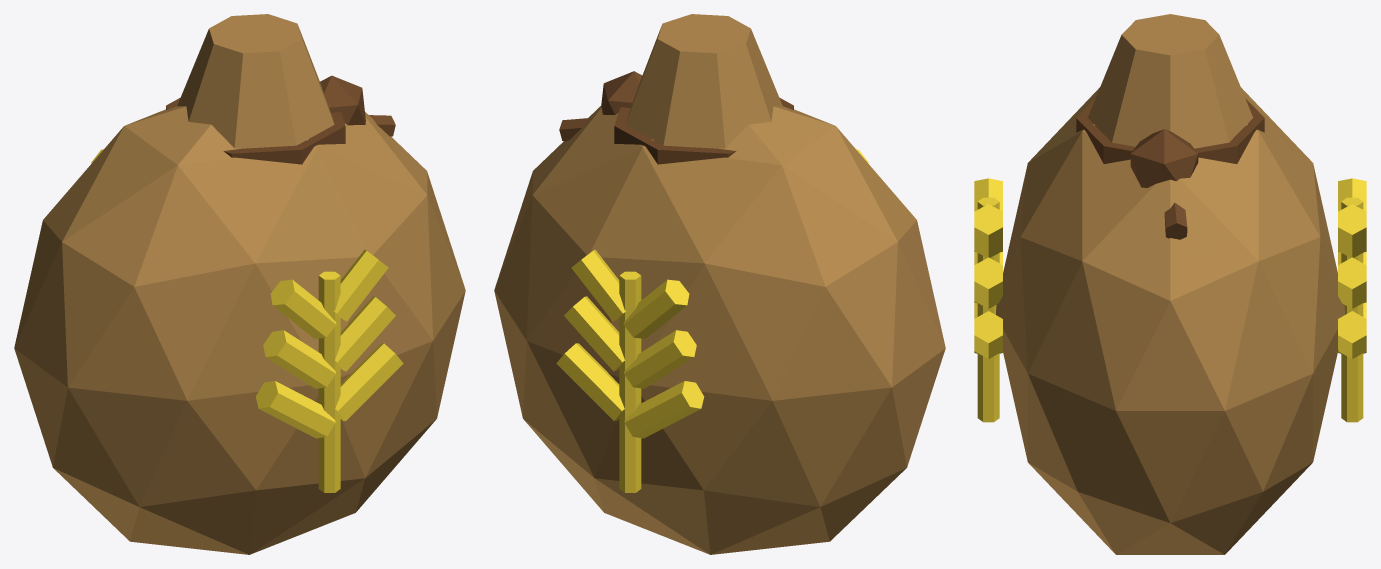
The model's file is food.glb.
3 views of the same model, side by side, from view 1: azimuth 30°, elevation 25°; view 2: azimuth 150°, elevation 25°; view 3: azimuth 270°, elevation 25° (orthographic).
Visible parts, largest first — view 1: food-plump-grain-sack, food-gathered-neck, food-wheat-stalk-0, food-wheat-left-0-0, food-wheat-right-0-0, food-wheat-left-0-1, food-wheat-left-0-2, food-wheat-right-0-1, food-neck-rope, food-wheat-right-0-2, food-rope-knot; view 2: food-plump-grain-sack, food-gathered-neck, food-wheat-stalk-1, food-wheat-left-1-0, food-wheat-right-1-0, food-wheat-left-1-1, food-wheat-left-1-2, food-wheat-right-1-1, food-neck-rope, food-wheat-right-1-2, food-rope-knot; view 3: food-plump-grain-sack, food-gathered-neck, food-rope-knot, food-neck-rope, food-wheat-stalk-1, food-wheat-stalk-0, food-wheat-right-0-2, food-wheat-right-1-2, food-wheat-right-0-1, food-wheat-right-1-1, food-wheat-right-0-0, food-wheat-right-1-0 (+3 smaller).
Part boxes in pixels (bbox=[...]): food-plump-grain-sack: bbox=[14, 106, 465, 554]; food-gathered-neck: bbox=[177, 14, 334, 148]; food-wheat-stalk-0: bbox=[318, 271, 340, 492]; food-wheat-left-0-0: bbox=[255, 381, 335, 438]; food-wheat-right-0-0: bbox=[335, 343, 403, 421]; food-wheat-left-0-1: bbox=[263, 330, 335, 388]; food-wheat-left-0-2: bbox=[270, 279, 336, 338]; food-wheat-right-0-1: bbox=[335, 296, 395, 371]; food-neck-rope: bbox=[166, 97, 345, 164]; food-wheat-right-0-2: bbox=[334, 249, 388, 321]; food-rope-knot: bbox=[320, 75, 365, 125]; food-plump-grain-sack: bbox=[494, 106, 945, 554]; food-gathered-neck: bbox=[625, 14, 782, 148]; food-wheat-stalk-1: bbox=[619, 271, 641, 492]; food-wheat-left-1-0: bbox=[624, 381, 704, 438]; food-wheat-right-1-0: bbox=[556, 343, 624, 421]; food-wheat-left-1-1: bbox=[624, 330, 696, 388]; food-wheat-left-1-2: bbox=[623, 279, 689, 338]; food-wheat-right-1-1: bbox=[564, 296, 624, 371]; food-neck-rope: bbox=[614, 97, 793, 164]; food-wheat-right-1-2: bbox=[571, 249, 625, 321]; food-rope-knot: bbox=[601, 71, 642, 114]; food-plump-grain-sack: bbox=[995, 87, 1345, 554]; food-gathered-neck: bbox=[1088, 14, 1252, 148]; food-rope-knot: bbox=[1130, 129, 1198, 187]; food-neck-rope: bbox=[1076, 98, 1264, 163]; food-wheat-stalk-1: bbox=[1341, 197, 1363, 422]; food-wheat-stalk-0: bbox=[977, 197, 999, 422]; food-wheat-right-0-2: bbox=[974, 204, 1002, 257]; food-wheat-right-1-2: bbox=[1338, 204, 1366, 257]; food-wheat-right-0-1: bbox=[974, 257, 1002, 308]; food-wheat-right-1-1: bbox=[1338, 257, 1366, 308]; food-wheat-right-0-0: bbox=[974, 311, 1002, 359]; food-wheat-right-1-0: bbox=[1338, 311, 1366, 359].
Bounding box in the file's own units: 0.8137 × 1 × 0.6853.
